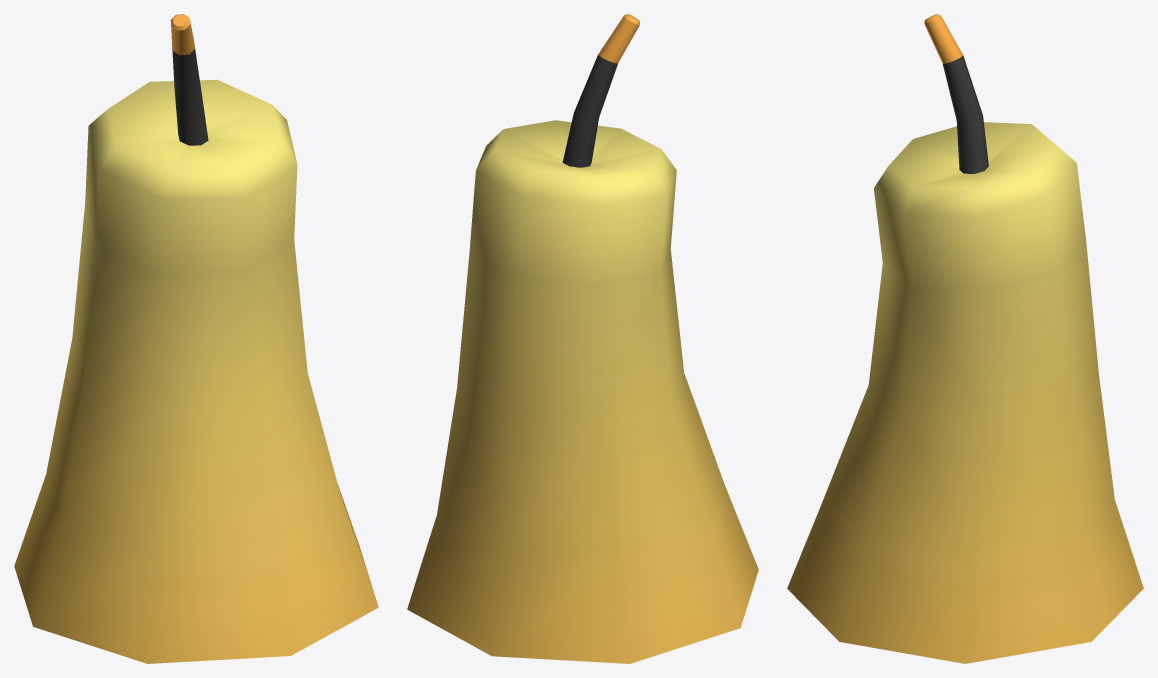
File: Candle_3.glb
The picture shows the model from 3 angles, left to right: view 1: azimuth 30°, elevation 25°; view 2: azimuth 150°, elevation 25°; view 3: azimuth 270°, elevation 25°; orthographic projection. The views are drawn at different scales.
Parts seen in each view (by area): view 1: Candle_3; view 2: Candle_3; view 3: Candle_3.
Part boxes in pixels (x1,y1,x2,y2): Candle_3: [14, 14, 378, 663]; Candle_3: [407, 14, 758, 663]; Candle_3: [787, 14, 1143, 663].
Bounding box in the file's own units: 0.1009 × 0.1745 × 0.1009.
1 material, 1 textured.
